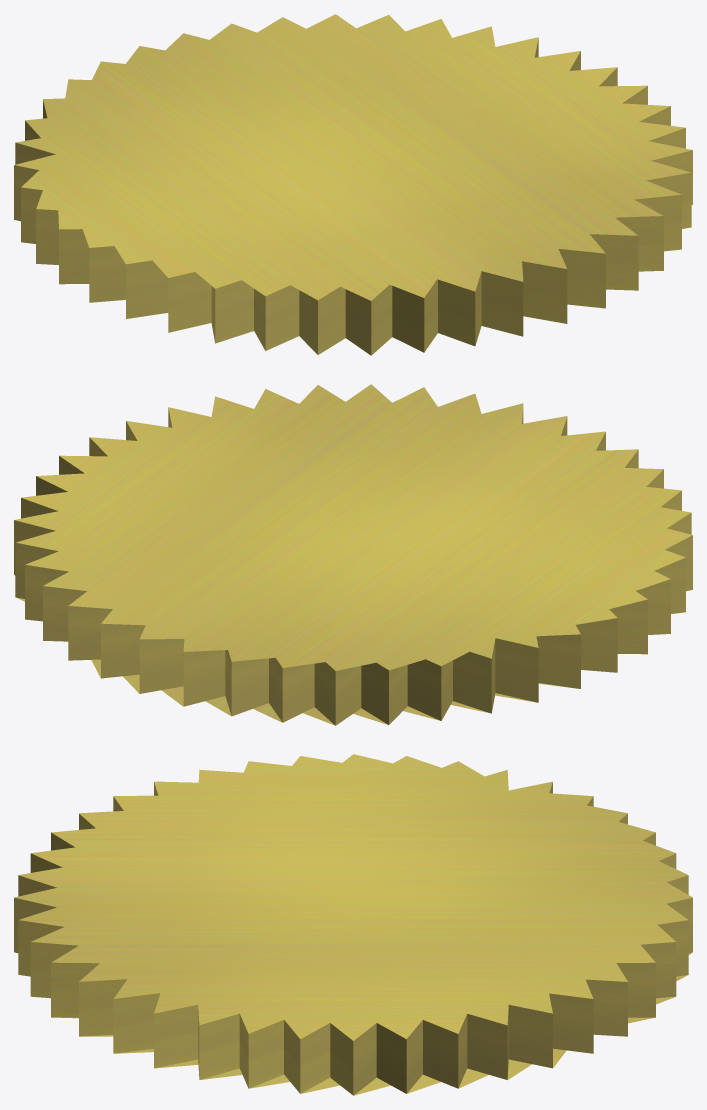
File: ClockStraightFacet6Spoke040.fbx
The picture shows the model from 3 angles, top to bottom: view 1: azimuth 30°, elevation 25°; view 2: azimuth 150°, elevation 25°; view 3: azimuth 270°, elevation 25°; orthographic projection.
Parts seen in each view (by area): view 1: ClockStraightFacet6Spoke040; view 2: ClockStraightFacet6Spoke040; view 3: ClockStraightFacet6Spoke040.
Part boxes in pixels (bbox=[...]): ClockStraightFacet6Spoke040: bbox=[14, 14, 692, 355]; ClockStraightFacet6Spoke040: bbox=[14, 384, 692, 725]; ClockStraightFacet6Spoke040: bbox=[14, 754, 692, 1095].
Bounding box in the file's own units: 221 × 19.69 × 221.
